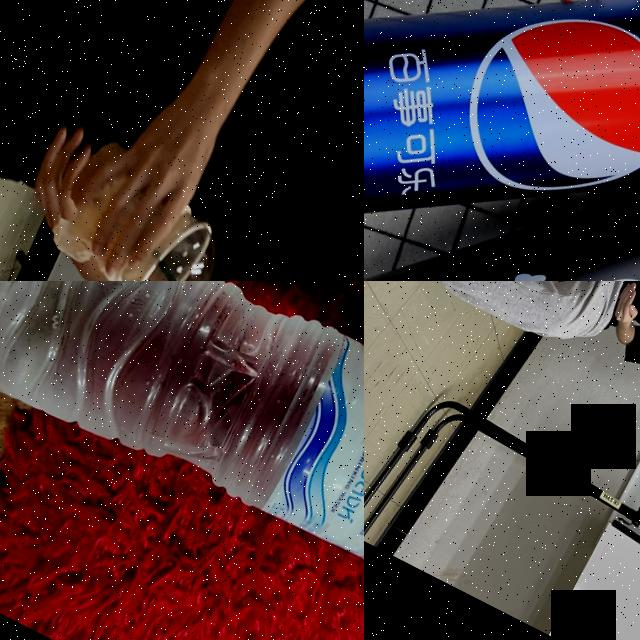bottle: (0, 281, 364, 640)
can: (364, 0, 640, 281), (364, 14, 640, 281)
cup: (32, 132, 246, 281)
